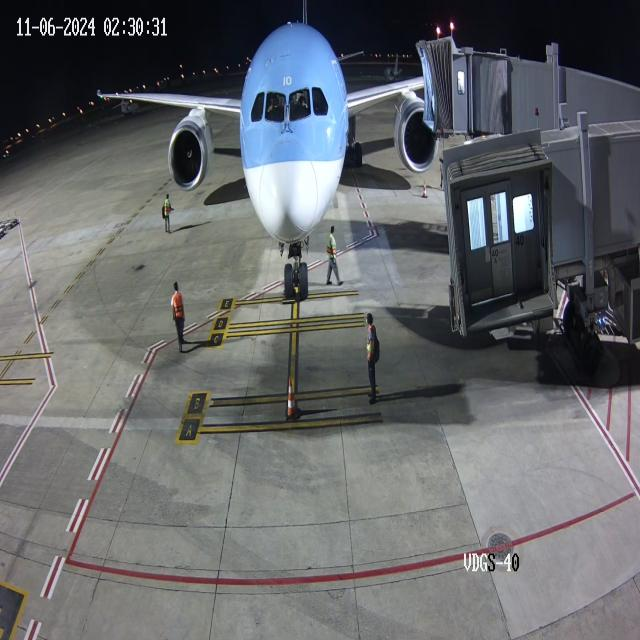bridge: (433, 17, 514, 140)
plane: (95, 0, 412, 305)
window: (249, 82, 331, 127)
